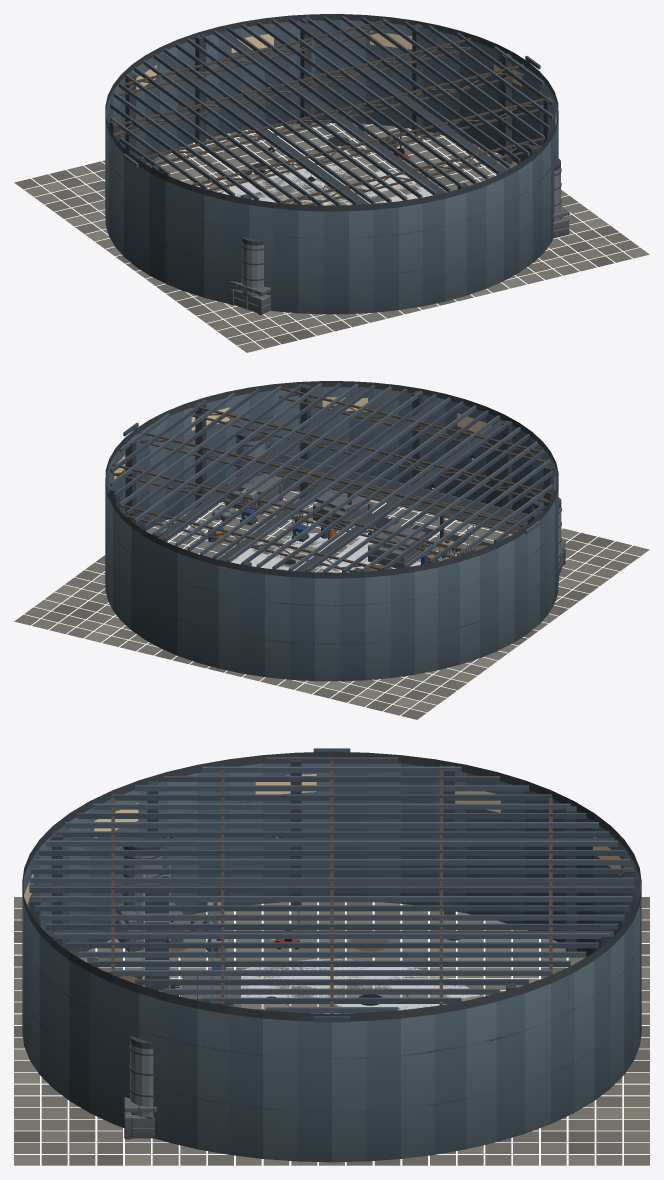
File: arena.fbx
The picture shows the model from 3 angles, top to bottom: view 1: azimuth 30°, elevation 25°; view 2: azimuth 150°, elevation 25°; view 3: azimuth 270°, elevation 25°; orthographic projection. The views are drawn at different scales.
Parts seen in each view (by area): view 1: arena_backdrop, arena_ceiling, arena, Col_Ground, arena_silos, kr_crate.001; view 2: arena_backdrop, arena_ceiling, arena, Col_Ground, arena_props, arena_silos, kr_crate.003, kr_crate.002, kr_crate_lid.003; view 3: arena_backdrop, arena_ceiling, arena, Col_Ground, arena_silos, kr_crate, kr_crate_lid.003.
Part boxes in pixels (left/top/right/bottom): arena_backdrop: left=105, top=14, right=558, bottom=314; arena_ceiling: left=110, top=16, right=553, bottom=205; arena: left=14, top=123, right=649, bottom=352; Col_Ground: left=222, top=165, right=432, bottom=205; arena_silos: left=241, top=158, right=561, bottom=309; kr_crate.001: left=229, top=288, right=270, bottom=314; arena_backdrop: left=105, top=381, right=558, bottom=681; arena_ceiling: left=110, top=383, right=553, bottom=572; arena: left=14, top=490, right=649, bottom=719; Col_Ground: left=231, top=533, right=441, bottom=572; arena_props: left=208, top=488, right=455, bottom=564; arena_silos: left=235, top=425, right=561, bottom=571; kr_crate.003: left=368, top=540, right=425, bottom=568; kr_crate.002: left=313, top=502, right=372, bottom=528; kr_crate_lid.003: left=369, top=524, right=425, bottom=550; arena_backdrop: left=22, top=752, right=641, bottom=1162; arena_ceiling: left=29, top=748, right=634, bottom=1022; arena: left=14, top=897, right=649, bottom=1165; Col_Ground: left=182, top=959, right=479, bottom=1013; arena_silos: left=122, top=837, right=162, bottom=1138; kr_crate: left=124, top=1112, right=154, bottom=1139; kr_crate_lid.003: left=182, top=976, right=240, bottom=1001.
Size of the model in its own units: 34.96 by 9.2 by 34.9.
